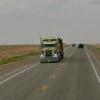Bus: (35, 33, 65, 67)
